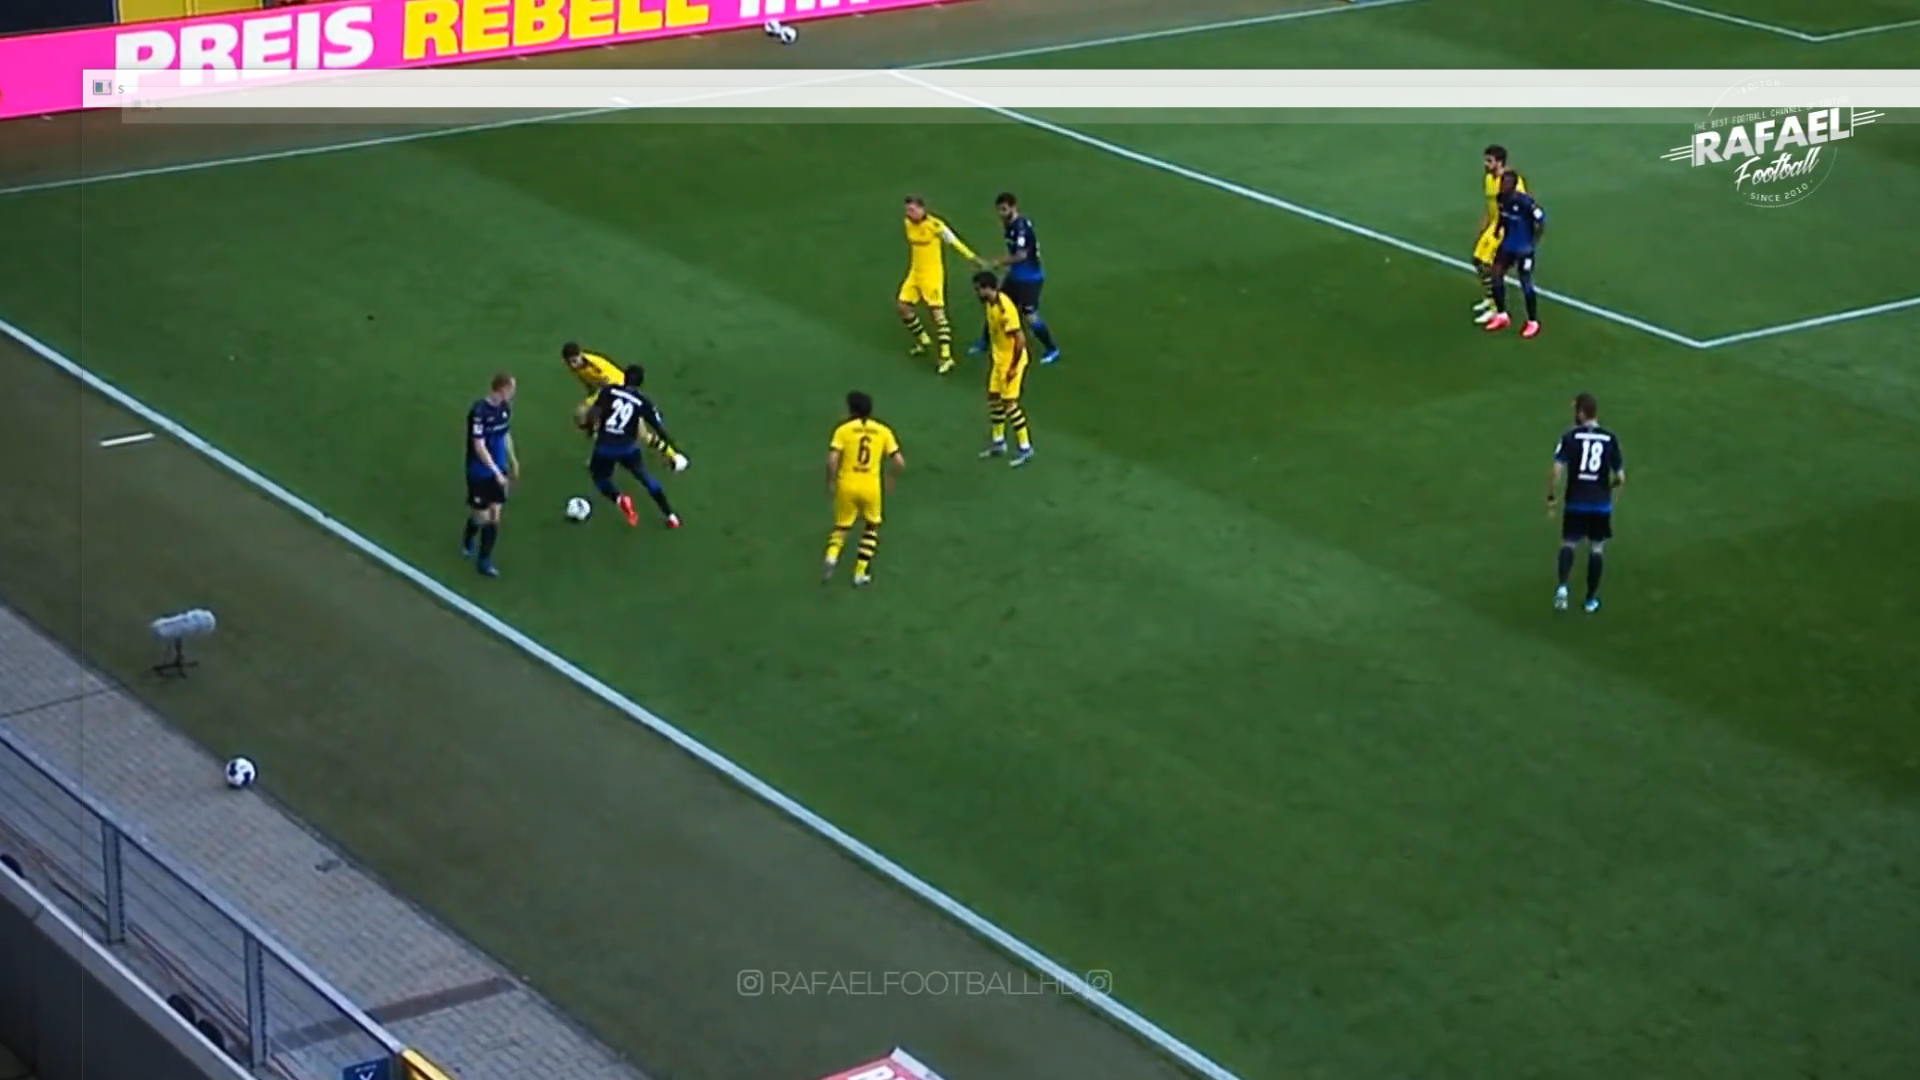ft: (563, 495, 591, 524)
